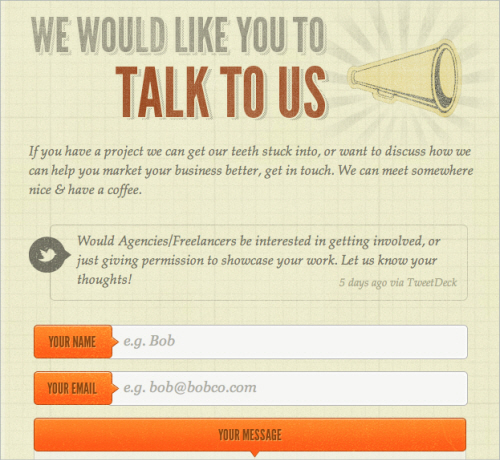_form_: (27, 96, 486, 460), (19, 10, 463, 311)
button: (33, 417, 468, 452)
field: (109, 324, 469, 360), (110, 371, 469, 407)
field_with_label: (48, 322, 472, 362), (49, 370, 470, 409)
